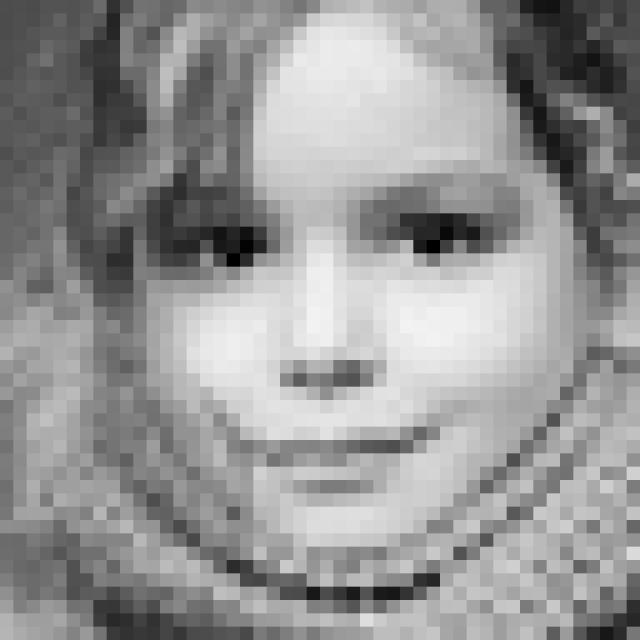neutral: (161, 164, 537, 505)
